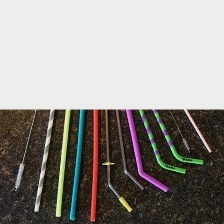drinking_straw: (123, 109, 171, 194), (30, 109, 62, 214), (85, 108, 103, 224), (181, 108, 215, 156)
